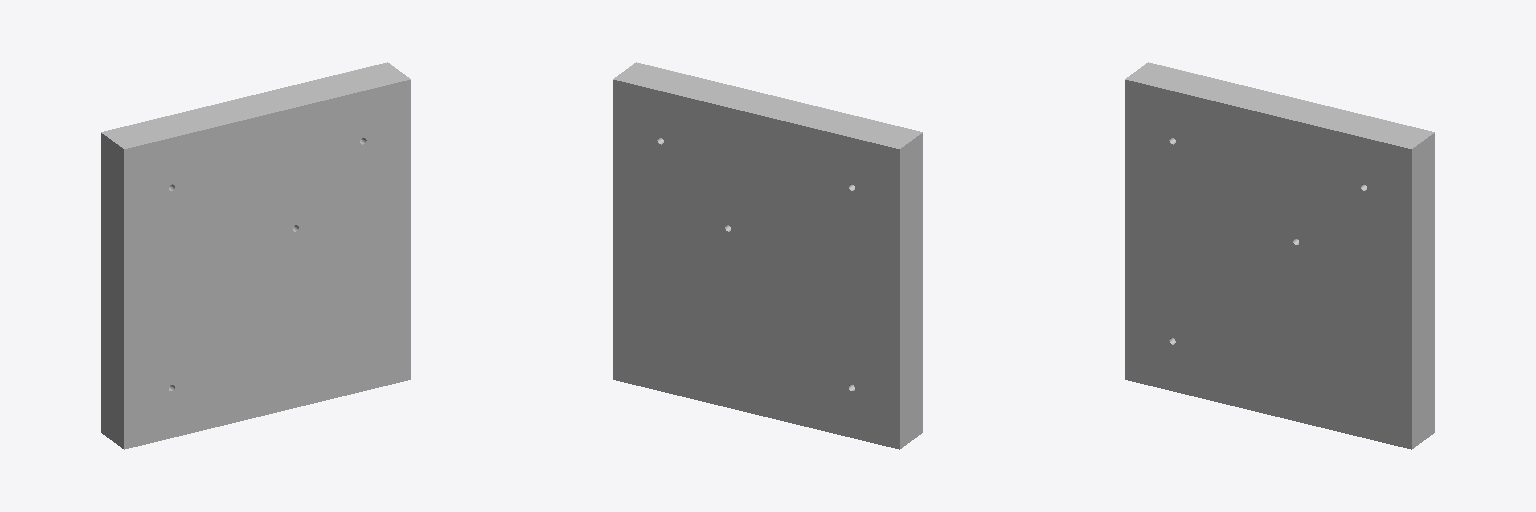
Rendered from rect1.obj.
The picture shows the model from 3 angles: view 1: azimuth 30°, elevation 25°; view 2: azimuth 150°, elevation 25°; view 3: azimuth 330°, elevation 25°; orthographic projection.
Visible parts, largest first — view 1: StainlessSteel_rect1; view 2: StainlessSteel_rect1; view 3: StainlessSteel_rect1.
Part boxes in pixels (x1,y1,x2,y2): StainlessSteel_rect1: (101,62,410,449); StainlessSteel_rect1: (613,62,922,449); StainlessSteel_rect1: (1125,62,1434,449).
Size of the model in its own units: 0.09 by 0.09 by 0.0127.